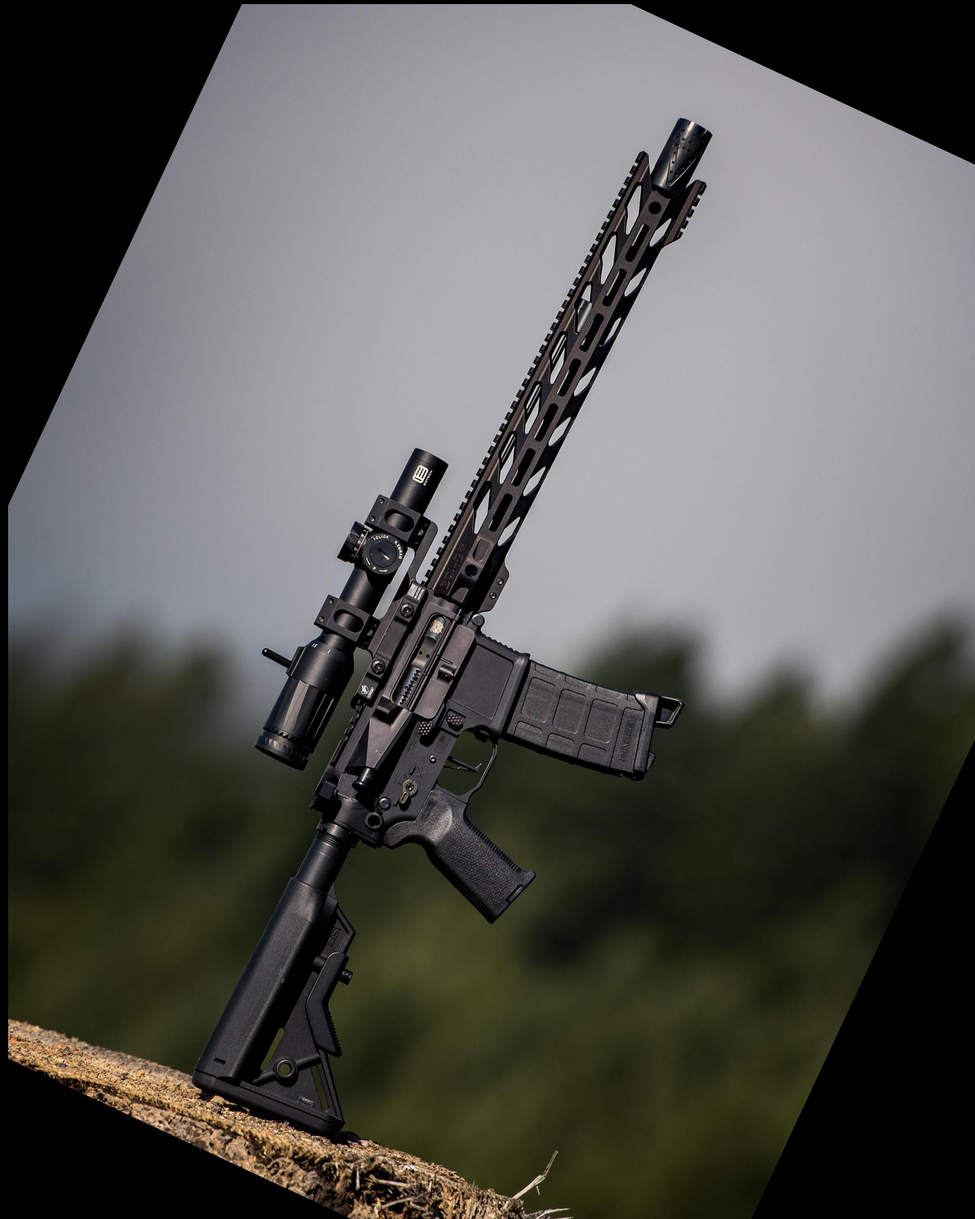larga: (192, 120, 712, 1142)
